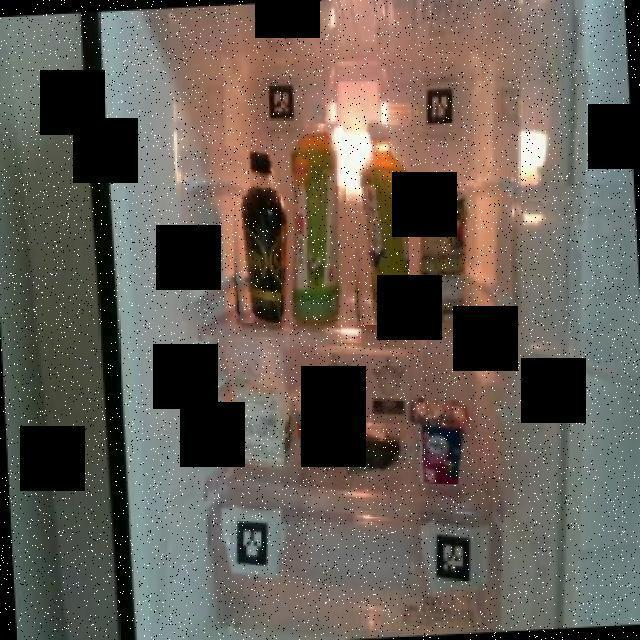bottle: (342, 113, 409, 325), (280, 124, 346, 325)
coffee: (223, 140, 289, 323)
pudding: (287, 382, 348, 462)
rice_ball: (348, 417, 406, 472)
sandwich: (222, 336, 290, 467)
smoothie: (414, 164, 475, 331)
yogurt: (408, 388, 472, 484)
